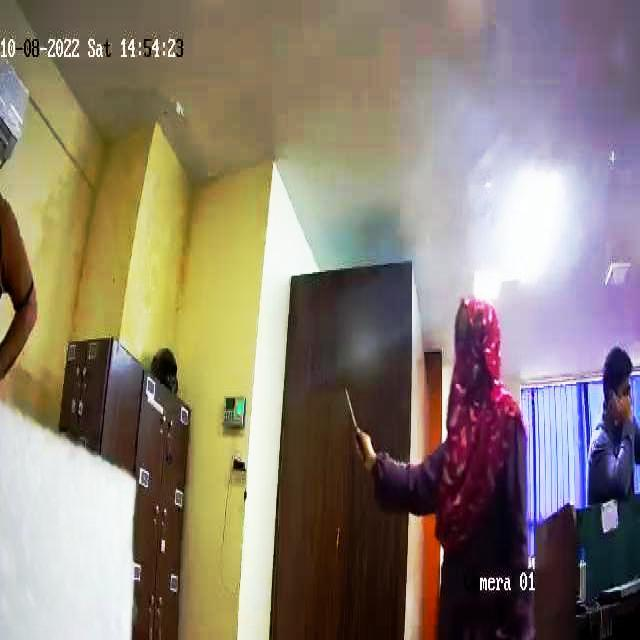Knife: (334, 386, 368, 459)
